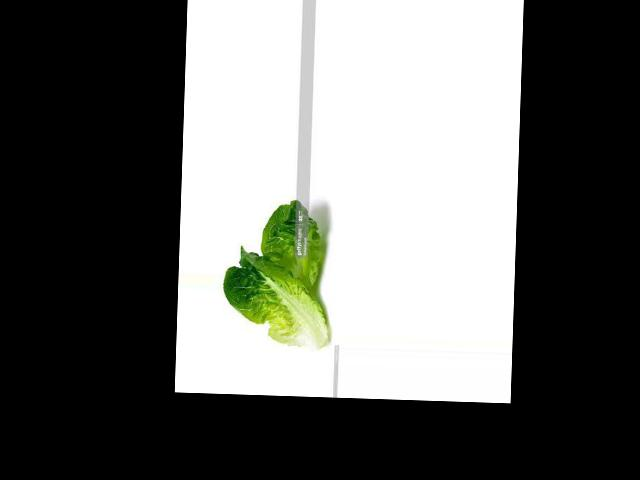lettuce: (244, 229, 333, 343)
